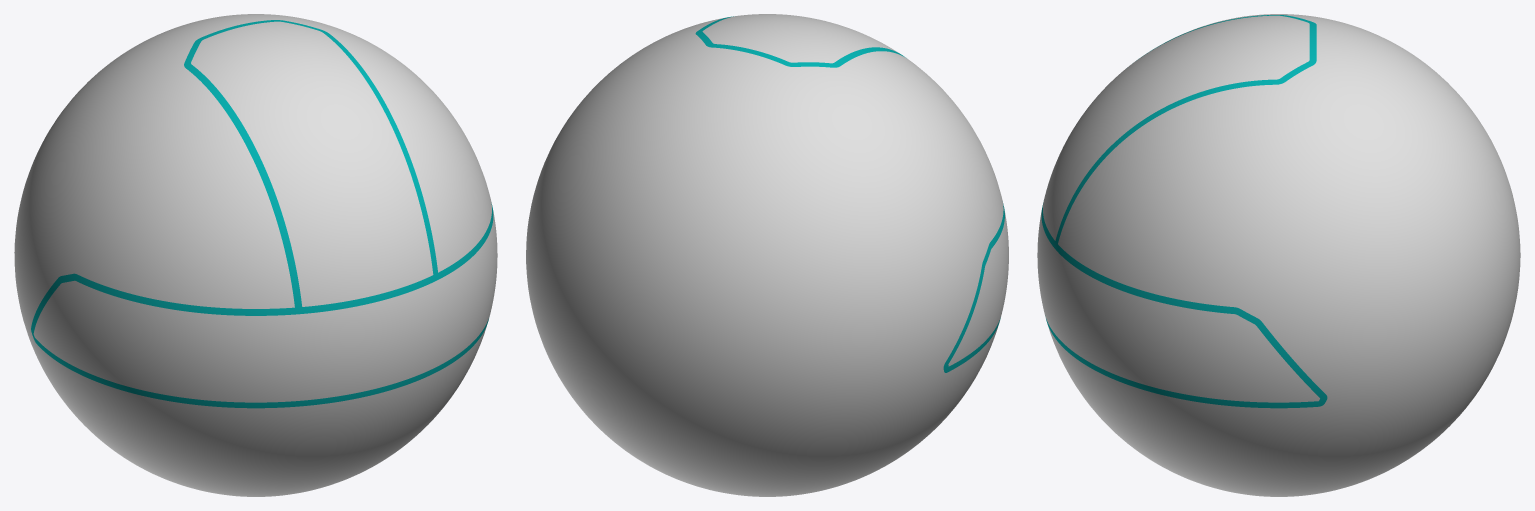
3 renders of one model, left to right at view 1: azimuth 30°, elevation 25°; view 2: azimuth 150°, elevation 25°; view 3: azimuth 270°, elevation 25°, orthographic.
Visible parts, largest first — view 1: Part3 (×4); view 2: Part3 (×4); view 3: Part3 (×4).
Boxes of the visible parts, x1,y1,x2,y2 form: Part3 (×4): (14, 14, 497, 496); Part3 (×4): (526, 14, 1008, 496); Part3 (×4): (1037, 14, 1520, 496).
Bounding box in the file's own units: 69.06 × 69.06 × 69.06.
